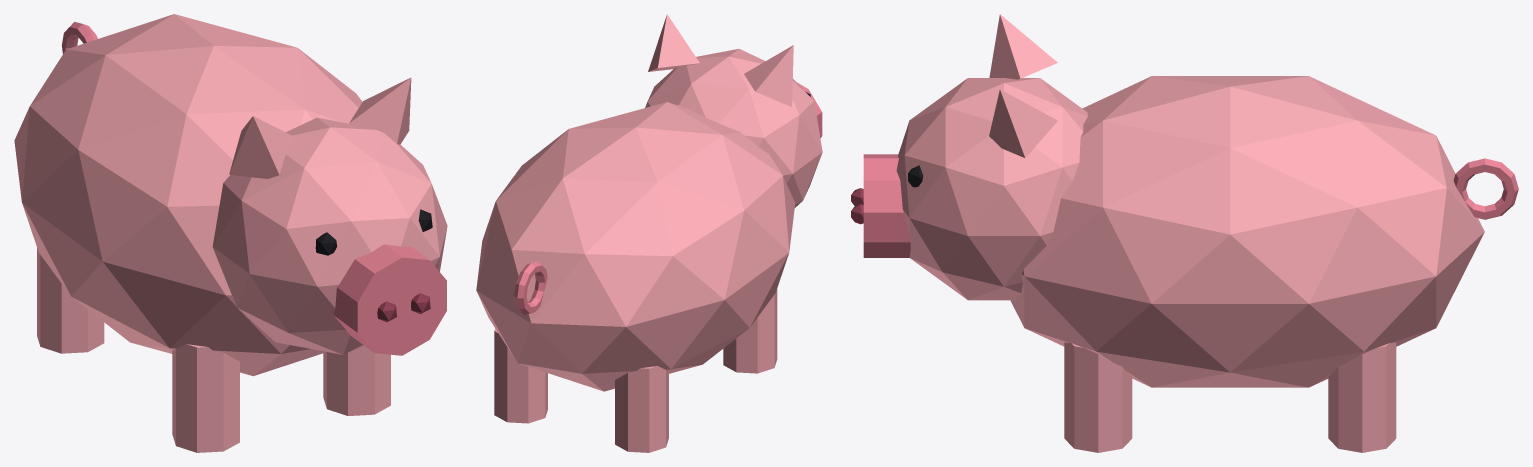
Rendered from Pig.fbx.
The picture shows the model from 3 angles, left to right: view 1: azimuth 30°, elevation 25°; view 2: azimuth 150°, elevation 25°; view 3: azimuth 270°, elevation 25°; orthographic projection. The views are drawn at different scales.
Visible parts, largest first — view 1: Skin, Snout, Nostrils, Eyes; view 2: Skin, Snout; view 3: Skin, Snout.
Part boxes in pixels (bbox=[...]): Skin: bbox=[14, 14, 447, 452]; Snout: bbox=[61, 22, 446, 355]; Nostrils: bbox=[377, 293, 430, 322]; Eyes: bbox=[315, 209, 432, 255]; Skin: bbox=[476, 14, 822, 452]; Snout: bbox=[514, 82, 822, 314]; Skin: bbox=[896, 14, 1484, 452]; Snout: bbox=[863, 154, 1518, 257].
Size of the model in its own units: 1.81 by 2.05 by 3.54.
